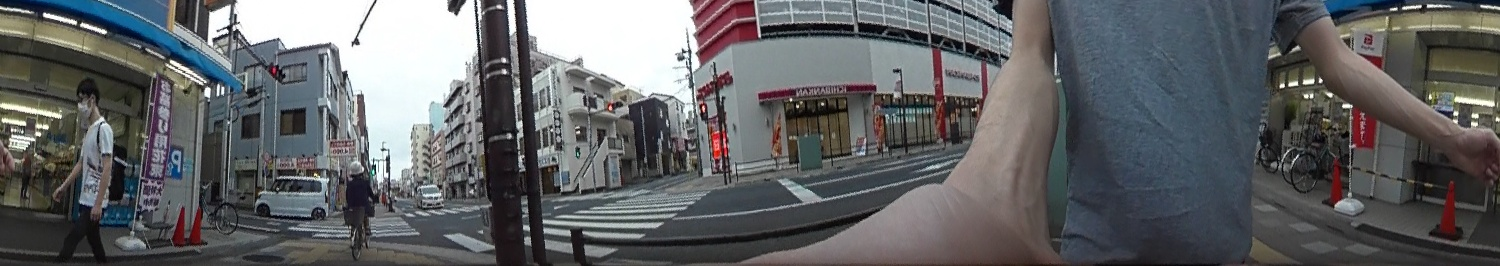person: (65, 75, 117, 264), (341, 156, 375, 239)
